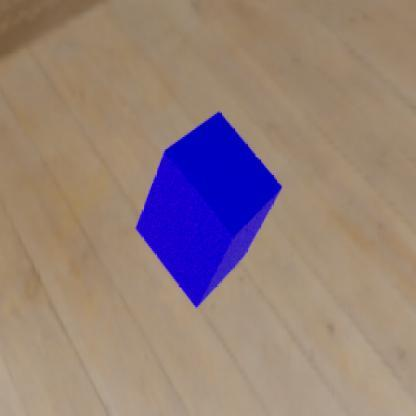cube: (134, 109, 282, 309)
